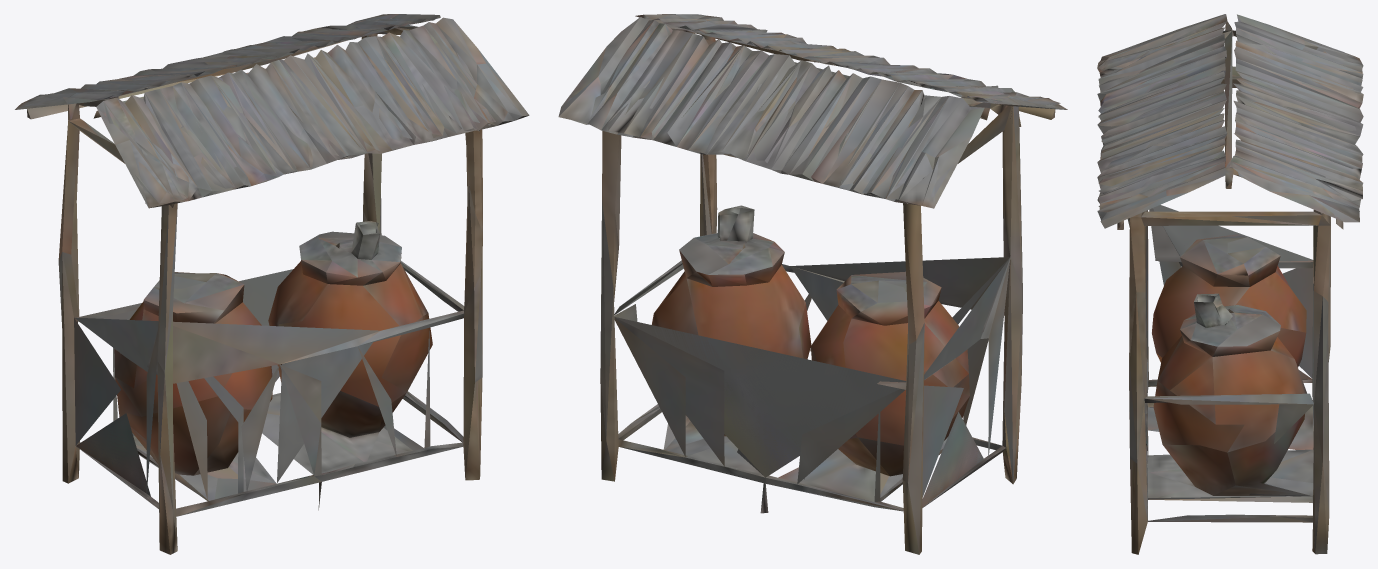
The model's file is zir.glb.
The picture shows the model from 3 angles, left to right: view 1: azimuth 30°, elevation 25°; view 2: azimuth 150°, elevation 25°; view 3: azimuth 270°, elevation 25°; orthographic projection. The views are drawn at different scales.
Size of the model in its own units: 1.8 by 1.9 by 1.17.
1 material, 1 textured.
